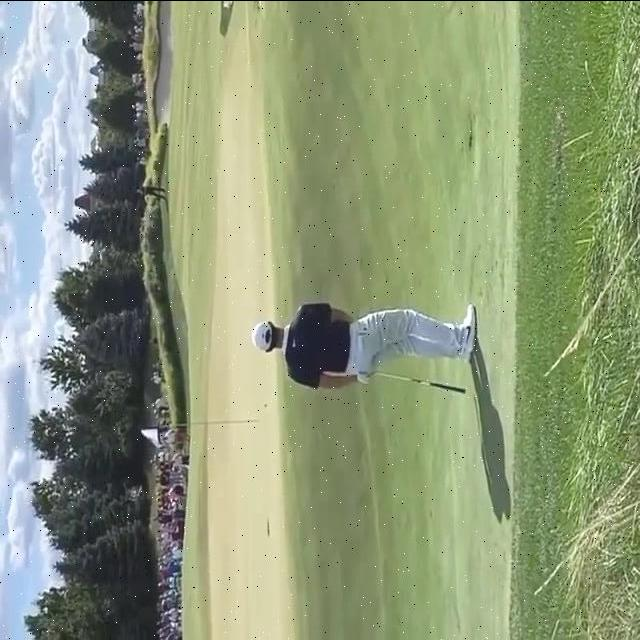golf club-handle: (372, 368, 465, 393)
